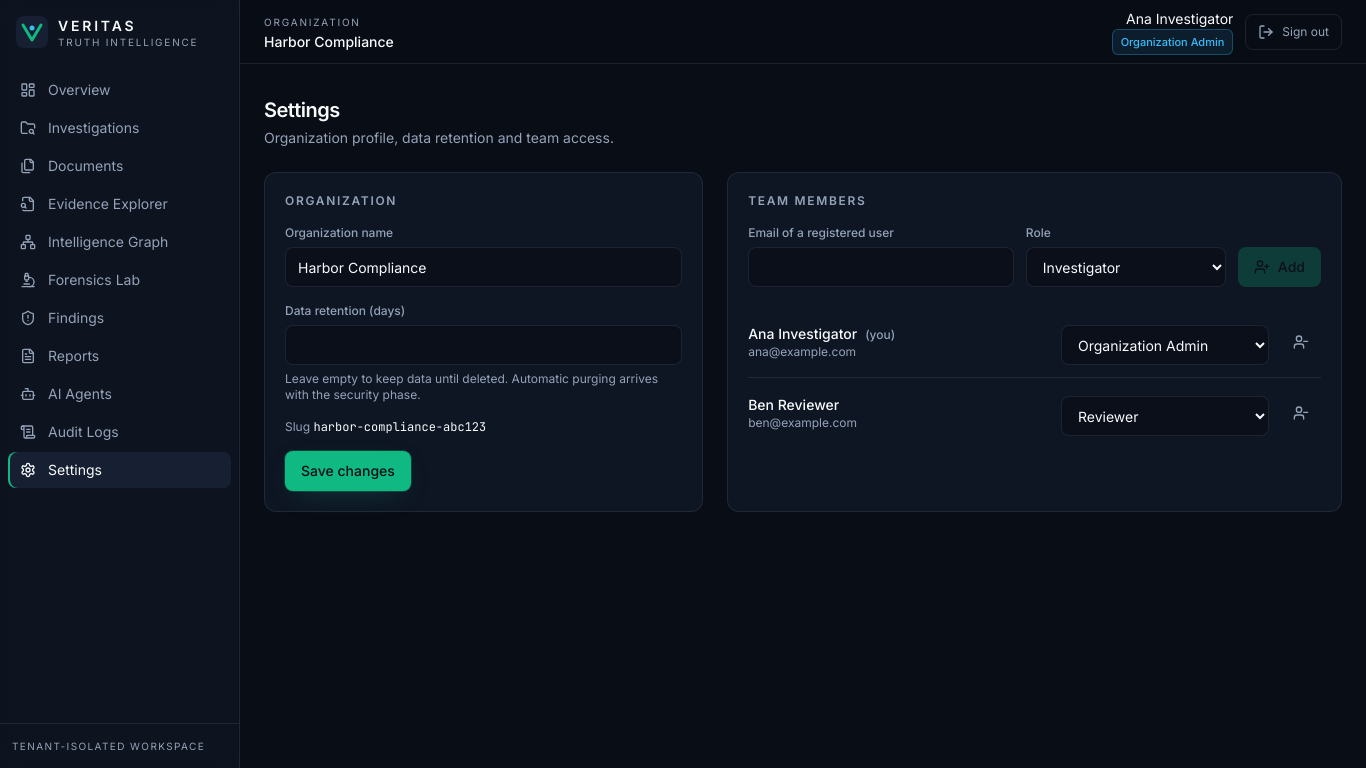
Test: removing a member asks for confirmation, then calls the API
What coordinates should you click on to do the following:
click the button named "Remove ben@example.com"
I would click on:
 (1301, 413)
Its box is [1281, 397, 1321, 429].
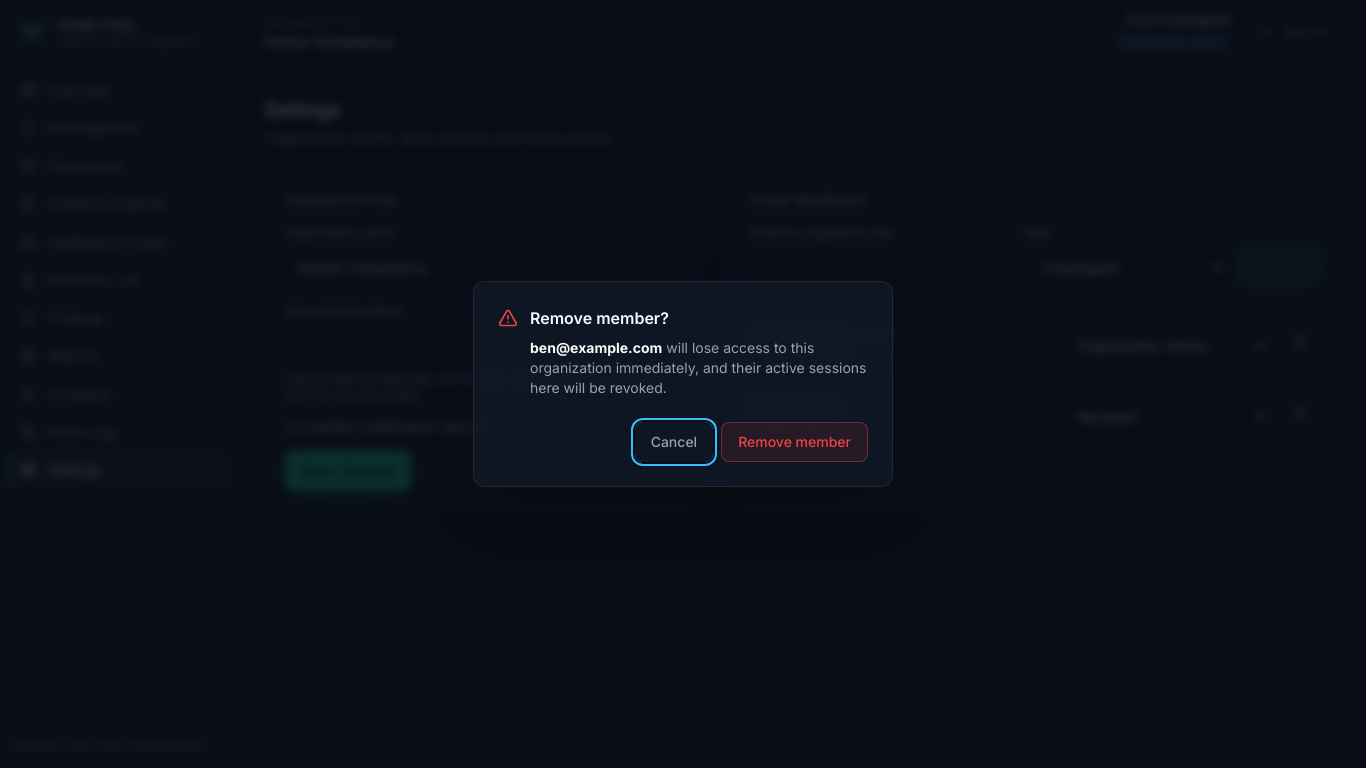
Expected: the text "will lose access" is shown, [530, 339, 866, 396]
What coordinates should you click on to do the following:
click the button "Remove member"
I would click on:
 (795, 442)
Its box is [721, 422, 868, 462].
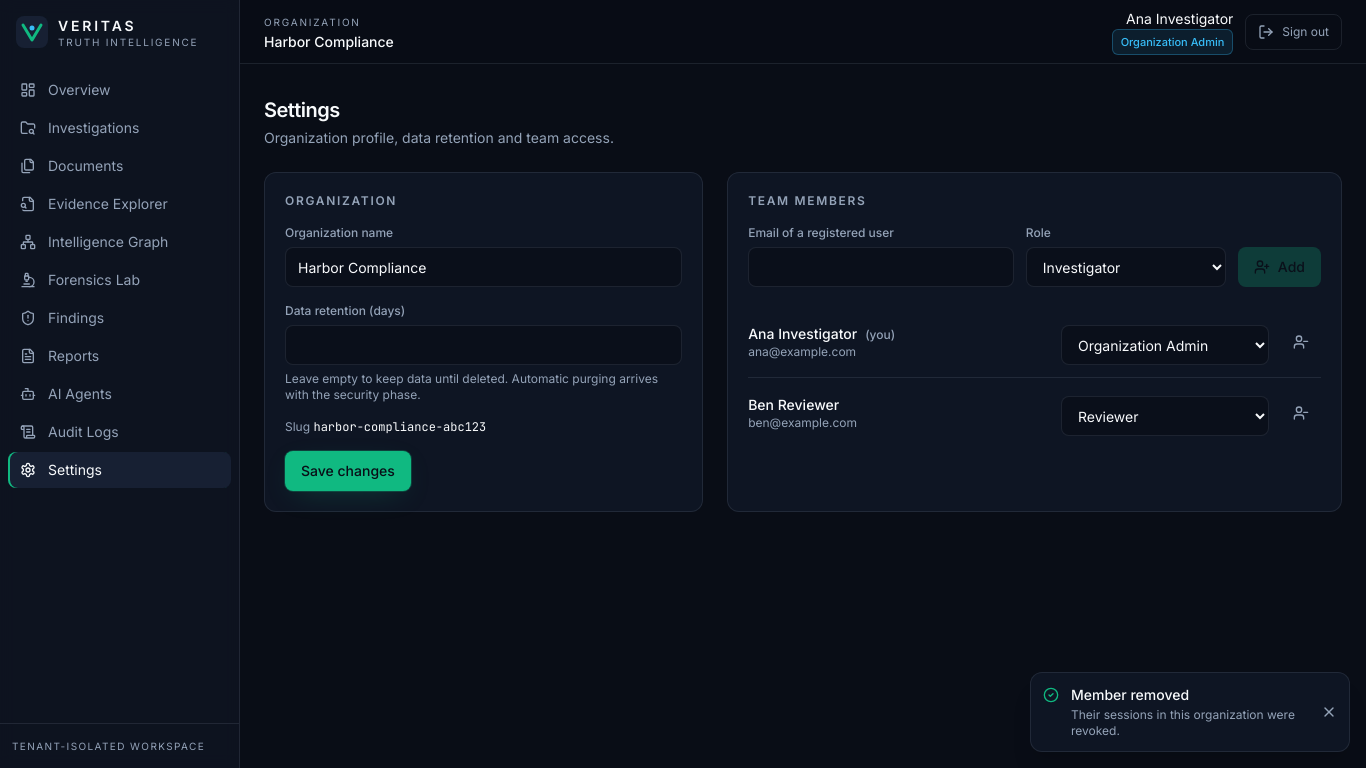
Expected: the text "Member removed" is shown, [1071, 686, 1189, 703]
